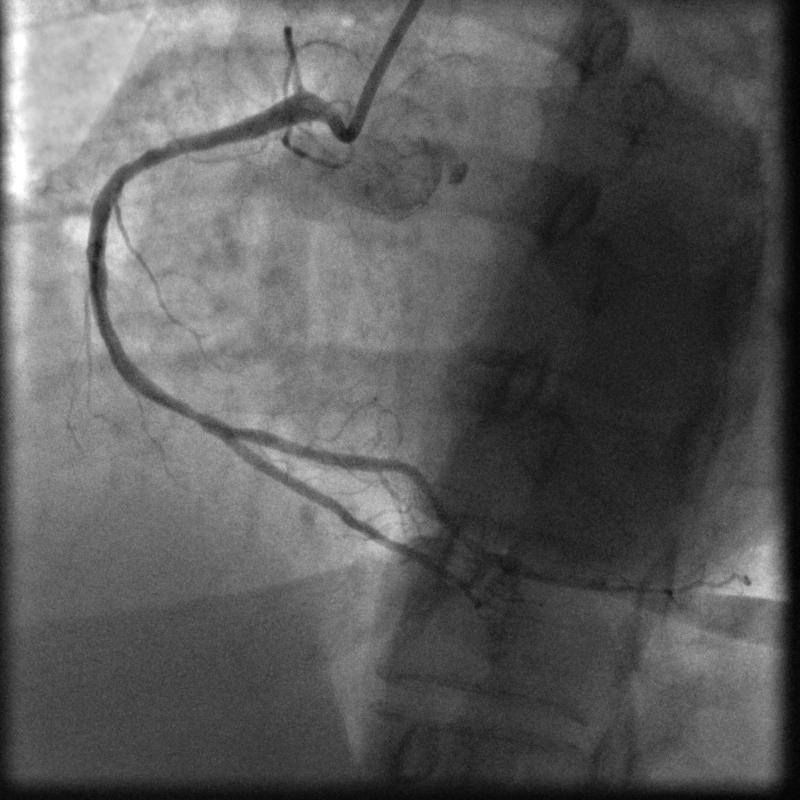Stenosis: (181, 395, 212, 437)
